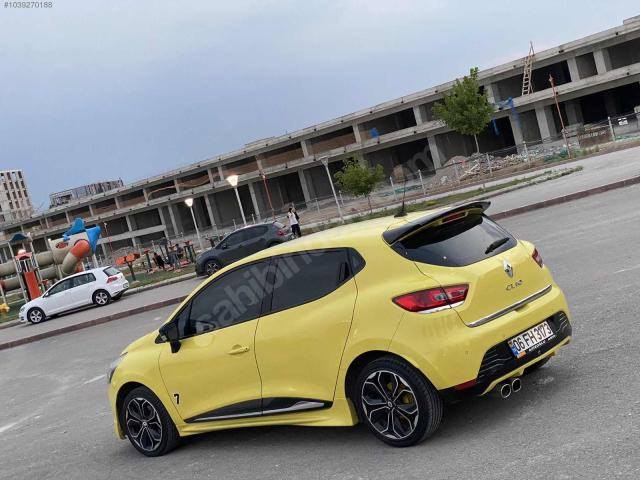plaka: (508, 322, 555, 358)
